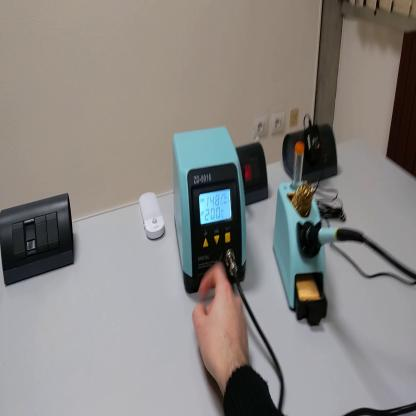hand: (192, 262, 250, 383)
socket: (283, 122, 341, 184), (238, 145, 271, 208)
welder base: (275, 138, 330, 328)
welder probe tip: (310, 221, 360, 249)
welder station: (174, 124, 249, 293)
